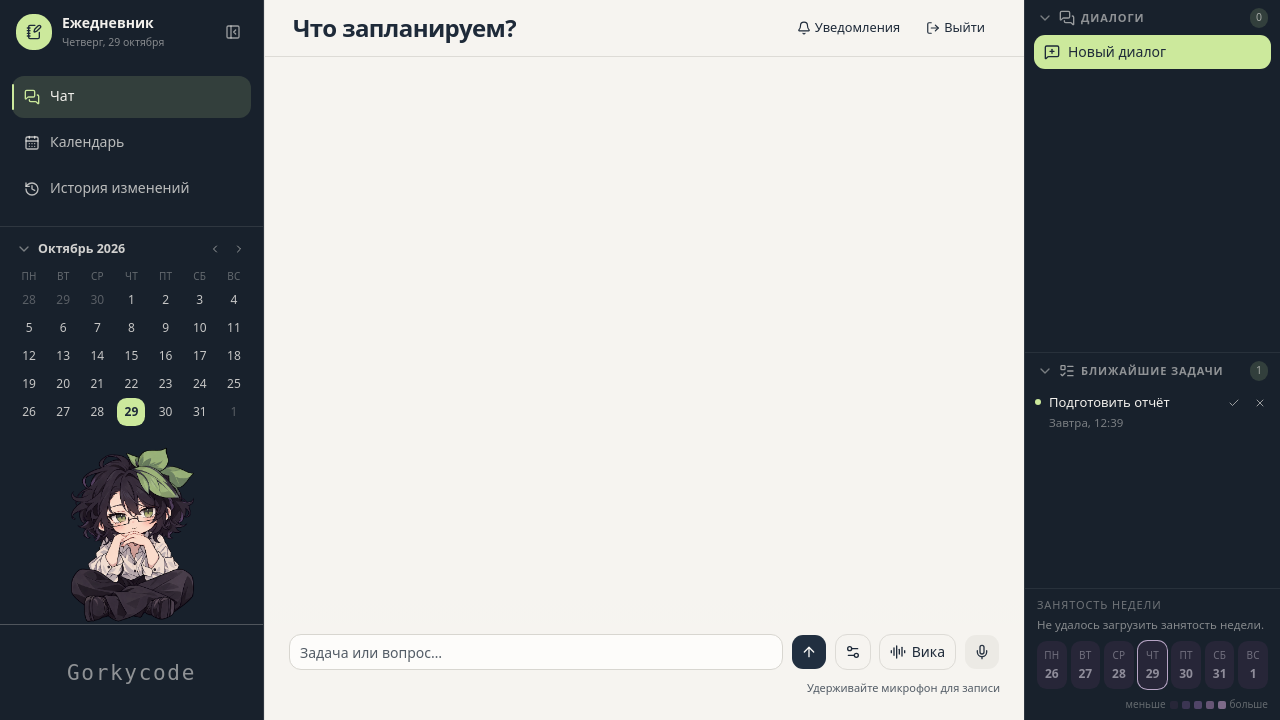
Test: planner chat › opens the editor for a task clicked in the chat sidebar
Click the button with aria-label "Открыть «Подготовить отчёт»".
click(1124, 412)  # box top-left (1029, 387), bottom-right (1218, 437)
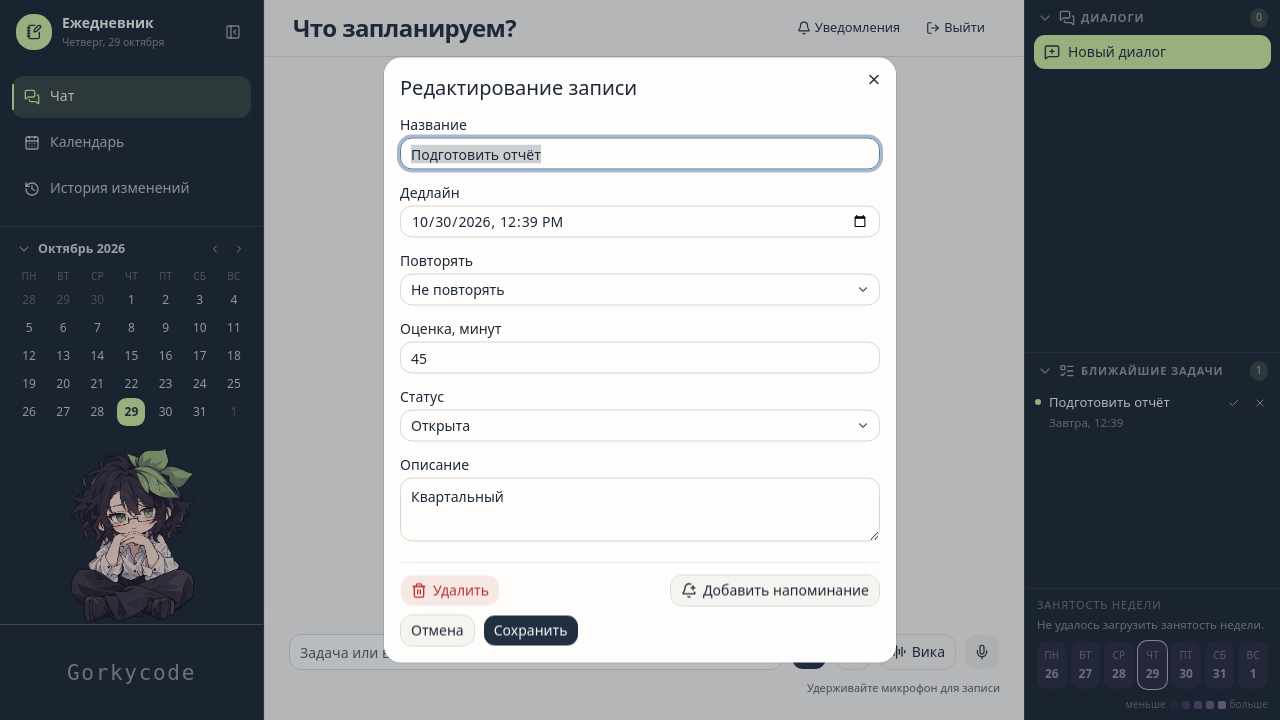
Now the field labelled "Название" holds "Подготовить отчёт", box top-left (400, 138), bottom-right (880, 170)
